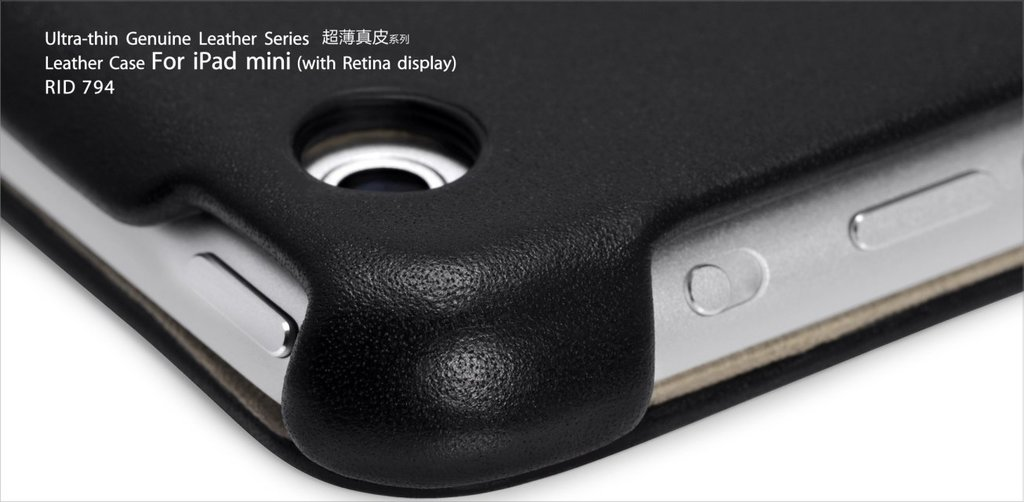Mobile-phone: (0, 16, 1024, 499)
